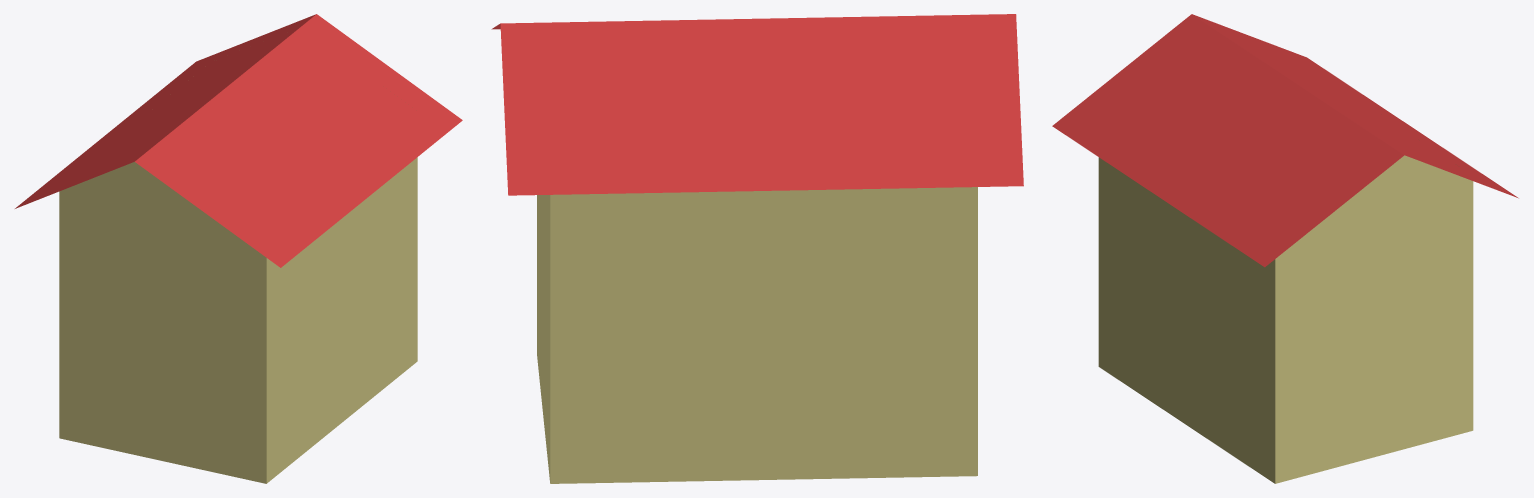
The picture shows the model from 3 angles, left to right: view 1: azimuth 30°, elevation 25°; view 2: azimuth 150°, elevation 25°; view 3: azimuth 270°, elevation 25°; orthographic projection. The views are drawn at different scales.
Size of the model in its own units: 11.03 by 10.39 by 7.62.
